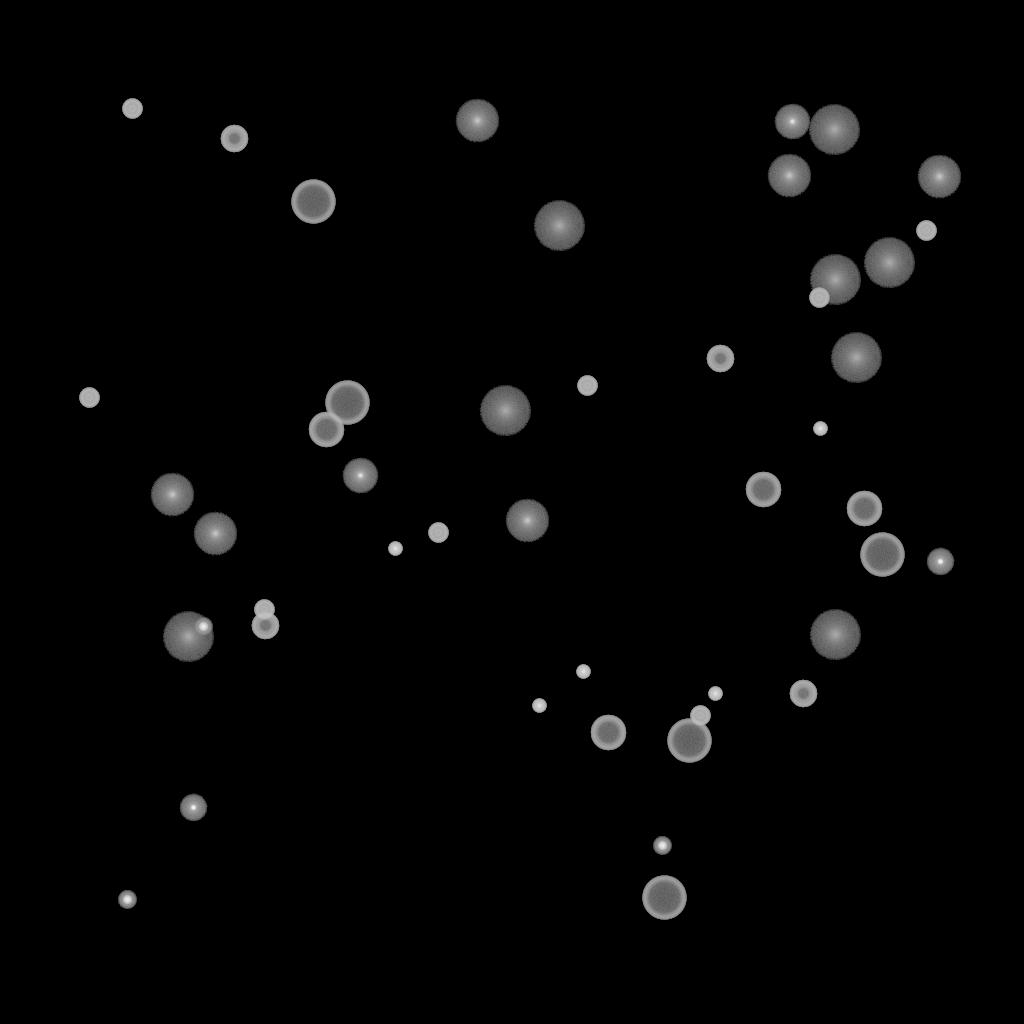depth:-10: (926, 548, 954, 576), (179, 794, 207, 822)
depth:-20: (653, 837, 671, 855), (194, 618, 212, 636), (118, 891, 136, 909)
depth:-30: (576, 665, 590, 679), (532, 699, 546, 713), (708, 687, 722, 701), (388, 542, 402, 556), (813, 422, 827, 436)
depth:-40: (428, 523, 448, 543), (916, 221, 936, 241), (254, 600, 274, 620), (79, 388, 99, 408), (809, 288, 829, 308), (690, 706, 710, 726), (577, 376, 597, 396), (122, 99, 142, 119)
depth:-50: (251, 612, 279, 640), (789, 680, 817, 708), (706, 345, 734, 373), (220, 125, 248, 153)
depth:-60: (745, 472, 781, 508), (590, 715, 626, 751), (308, 412, 344, 448), (846, 491, 882, 527)
depth:-70: (325, 381, 369, 425), (642, 876, 686, 920), (667, 719, 711, 763), (860, 533, 904, 577), (291, 180, 335, 224)
depth:0: (342, 458, 378, 494), (774, 104, 810, 140)
depth:10: (917, 155, 961, 199), (150, 473, 194, 517), (193, 512, 237, 556), (767, 154, 811, 198), (505, 499, 549, 543), (455, 99, 499, 143)
depth:20: (863, 238, 915, 288), (479, 386, 531, 436), (162, 612, 214, 662), (533, 201, 585, 251), (809, 255, 861, 305), (809, 610, 861, 660), (808, 105, 860, 155), (830, 333, 882, 383)
